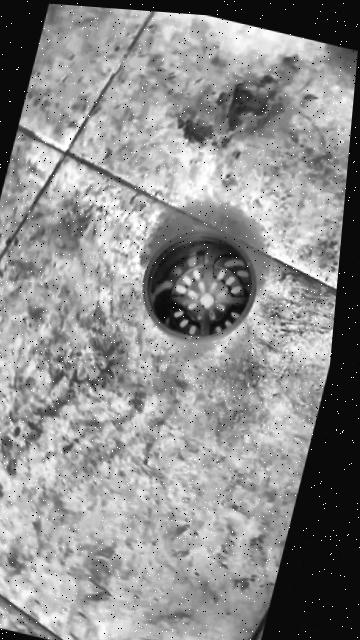pot: (130, 221, 270, 354)
